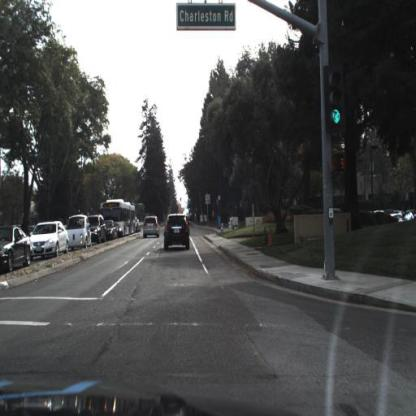car: (30, 221, 70, 260), (2, 225, 32, 275), (163, 213, 192, 253), (68, 213, 92, 249), (91, 212, 108, 247), (142, 214, 163, 241), (90, 215, 104, 241), (106, 220, 117, 238)
trafficLight-Green: (325, 68, 347, 136)
truck: (110, 199, 137, 235)
